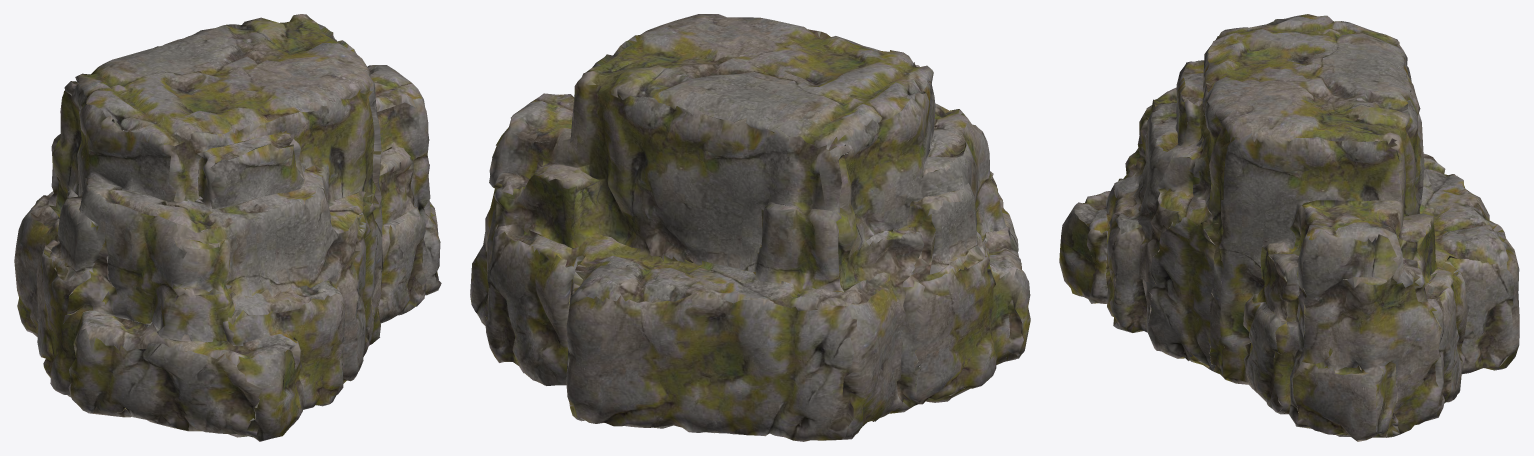
The picture shows the model from 3 angles, left to right: view 1: azimuth 30°, elevation 25°; view 2: azimuth 150°, elevation 25°; view 3: azimuth 270°, elevation 25°; orthographic projection. The views are drawn at different scales.
Visible parts, largest first — view 1: Cube.043; view 2: Cube.043; view 3: Cube.043.
Part boxes in pixels (left/top/right/bottom): Cube.043: left=14, top=14, right=441, bottom=441; Cube.043: left=470, top=14, right=1030, bottom=441; Cube.043: left=1059, top=14, right=1519, bottom=441.
Size of the model in its own units: 6.62 by 4.08 by 6.3.
1 material, 1 textured.
